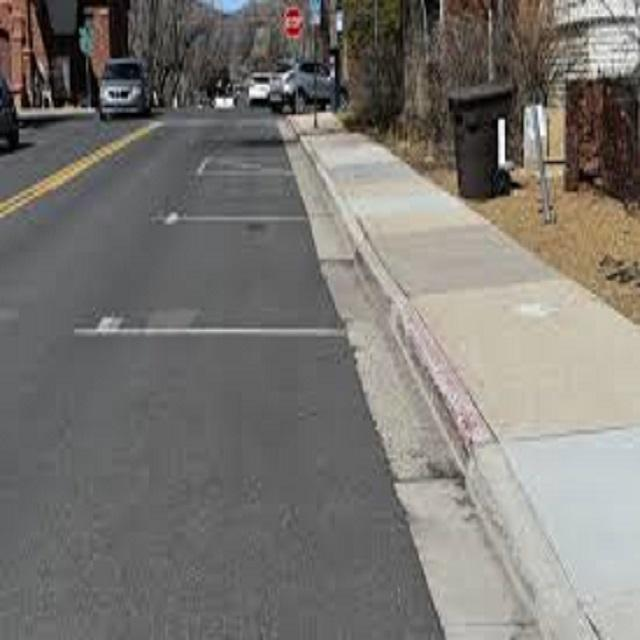curb: (422, 454, 609, 640), (352, 308, 472, 488), (337, 235, 417, 310), (302, 160, 362, 232)
